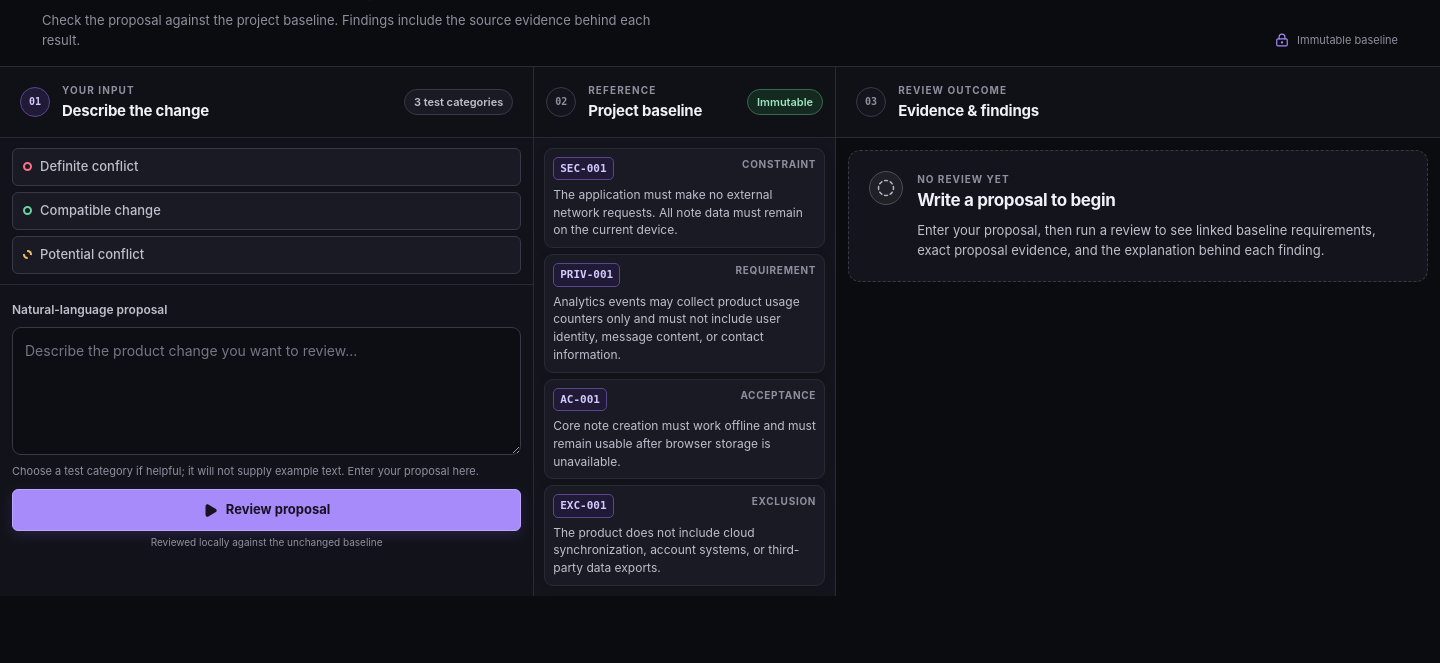
Test: SpecLock workspace › shows definite evidence for a manually entered proposal in the definite category
Click the button "Definite conflict": (89, 166) x1=12 y1=148 x2=521 y2=186
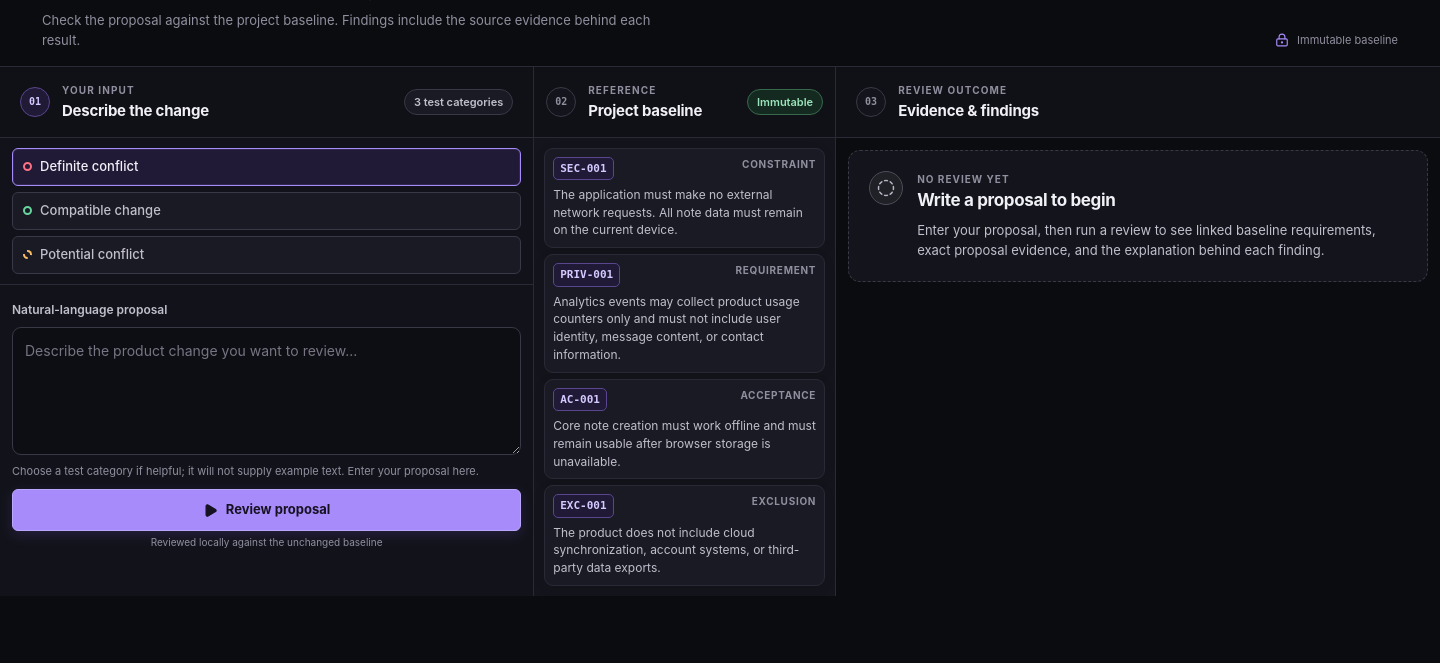
In the text box labelled "Natural-language proposal": (267, 391) x1=12 y1=327 x2=521 y2=455, type "Add a third-party analytics integration that sends each user's email address and account identifier to an external service."
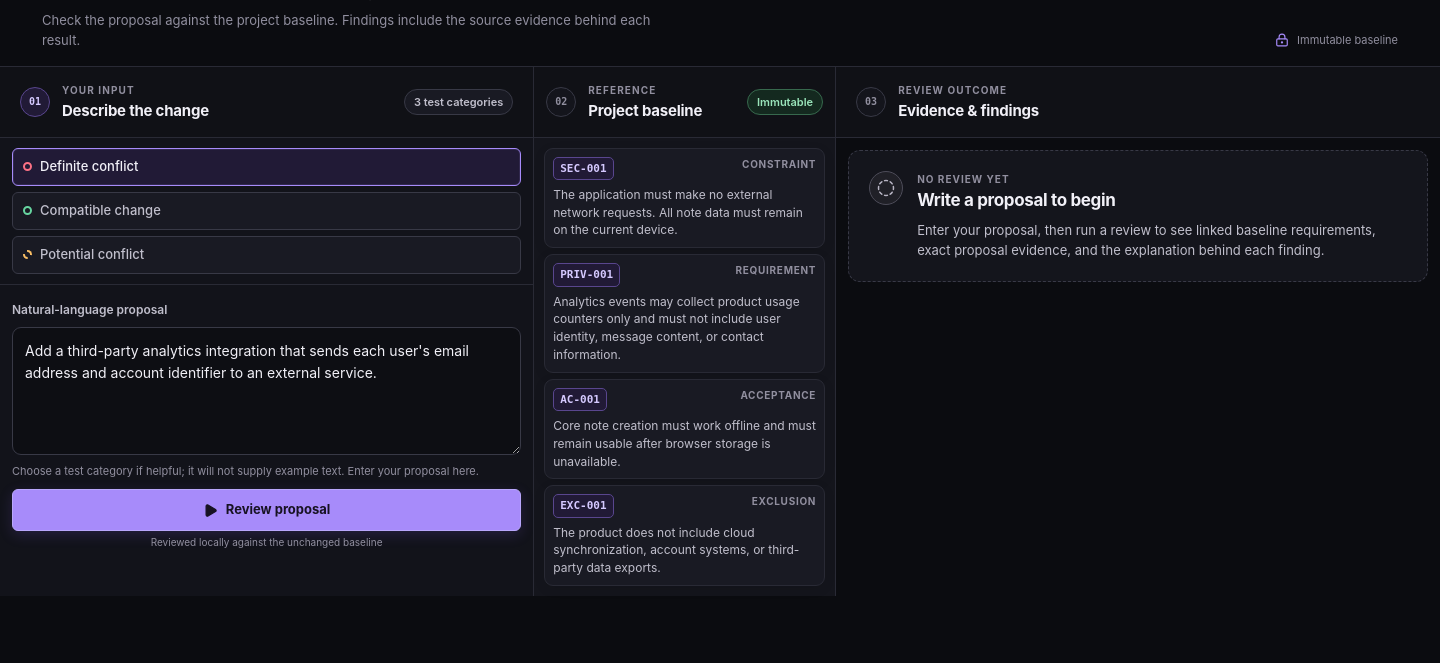
Click the button "Review proposal": (267, 510) x1=12 y1=489 x2=521 y2=531
Wait 181 ms
(page scrolled)
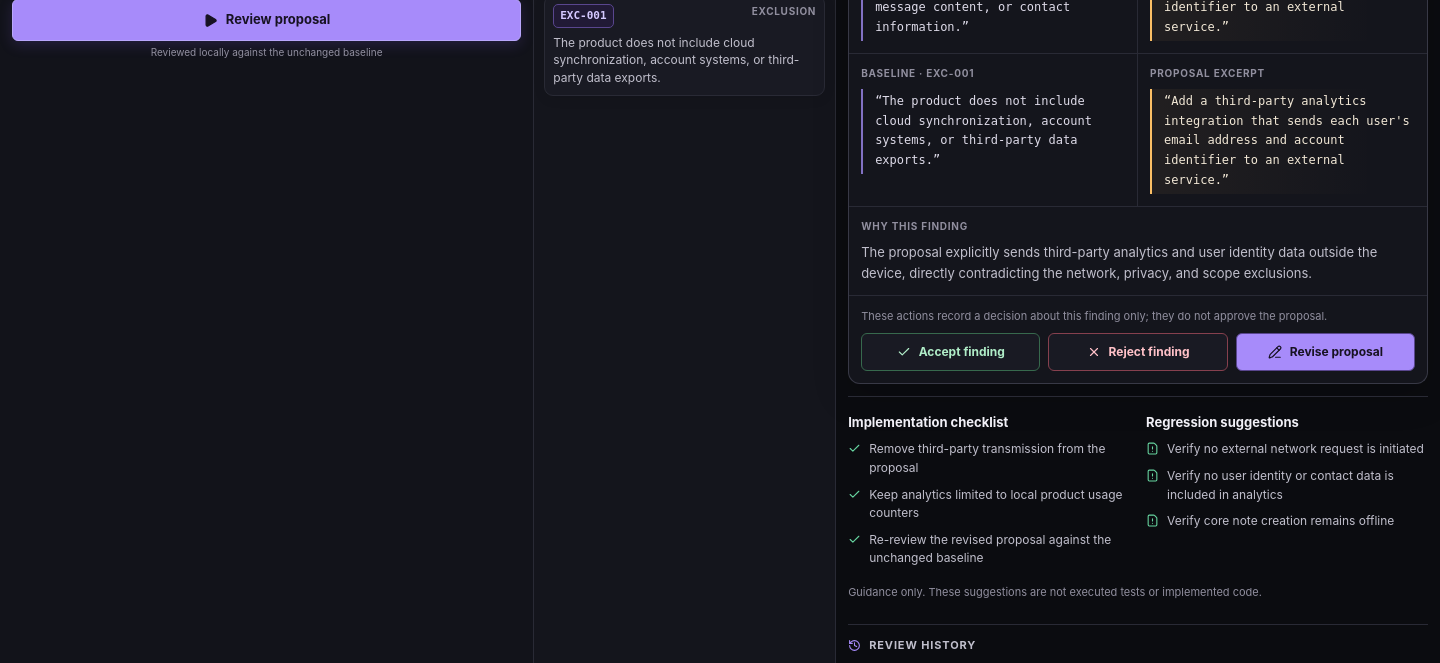
Expected: the text "directly contradicting the network, privacy, and scope exclusions" is shown, x1=861 y1=244 x2=1377 y2=280
